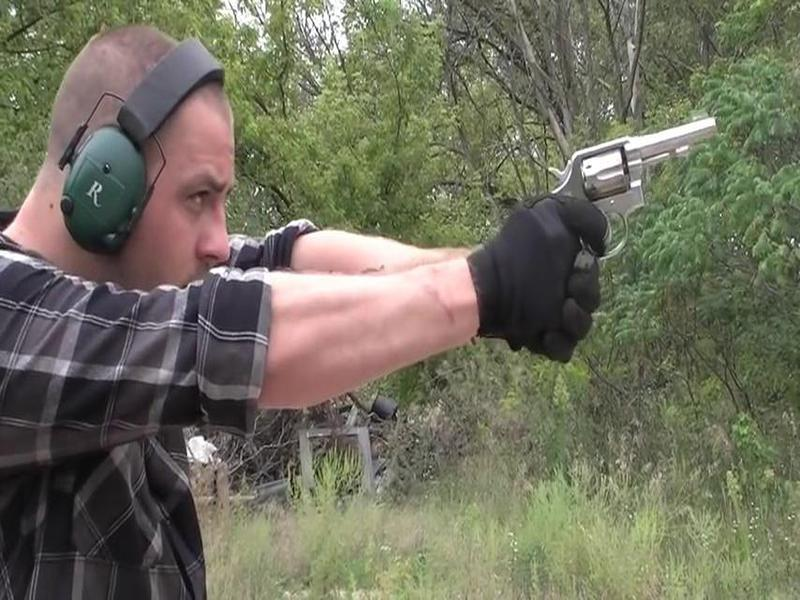Revolver: (506, 107, 721, 269)
